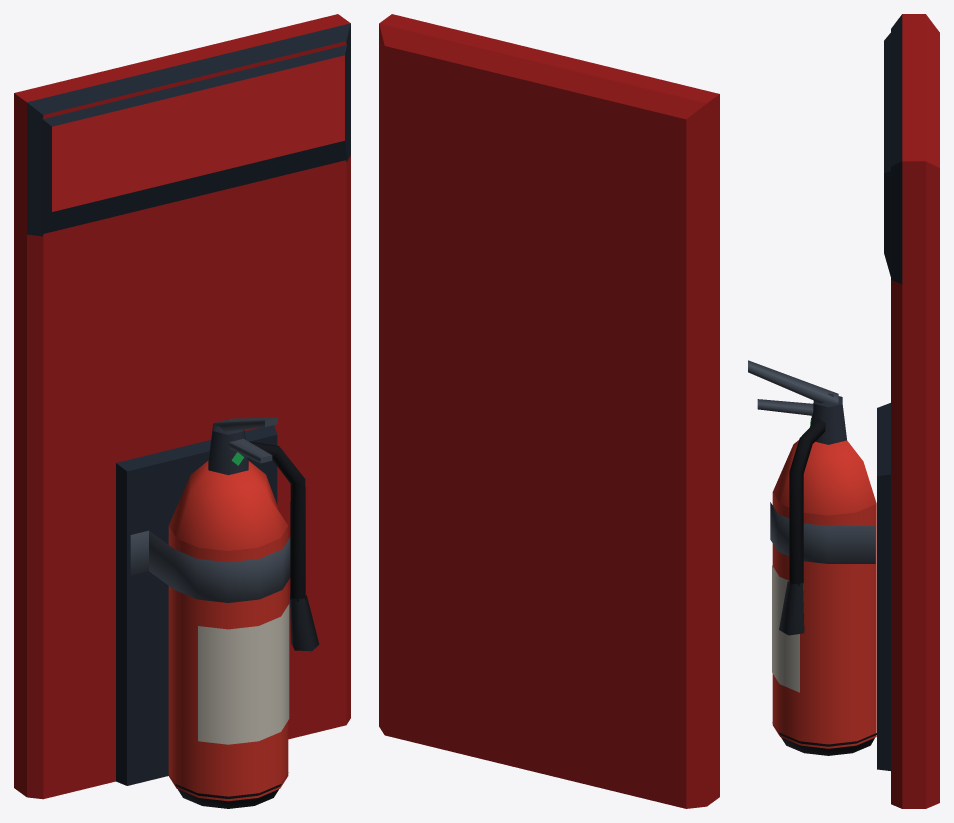
Rendered from yard-extinguisher-body.glb.
The picture shows the model from 3 angles, left to right: view 1: azimuth 30°, elevation 25°; view 2: azimuth 150°, elevation 25°; view 3: azimuth 270°, elevation 25°; orthographic projection. The views are drawn at different scales.
Parts seen in each view (by area): view 1: Yard-extinguisher-bodyBody; view 2: Yard-extinguisher-bodyBody; view 3: Yard-extinguisher-bodyBody.
Part boxes in pixels (bbox=[...]): Yard-extinguisher-bodyBody: bbox=[14, 14, 350, 808]; Yard-extinguisher-bodyBody: bbox=[379, 14, 719, 808]; Yard-extinguisher-bodyBody: bbox=[748, 14, 939, 808].
Size of the model in its own units: 0.5 by 1.02 by 0.275.
